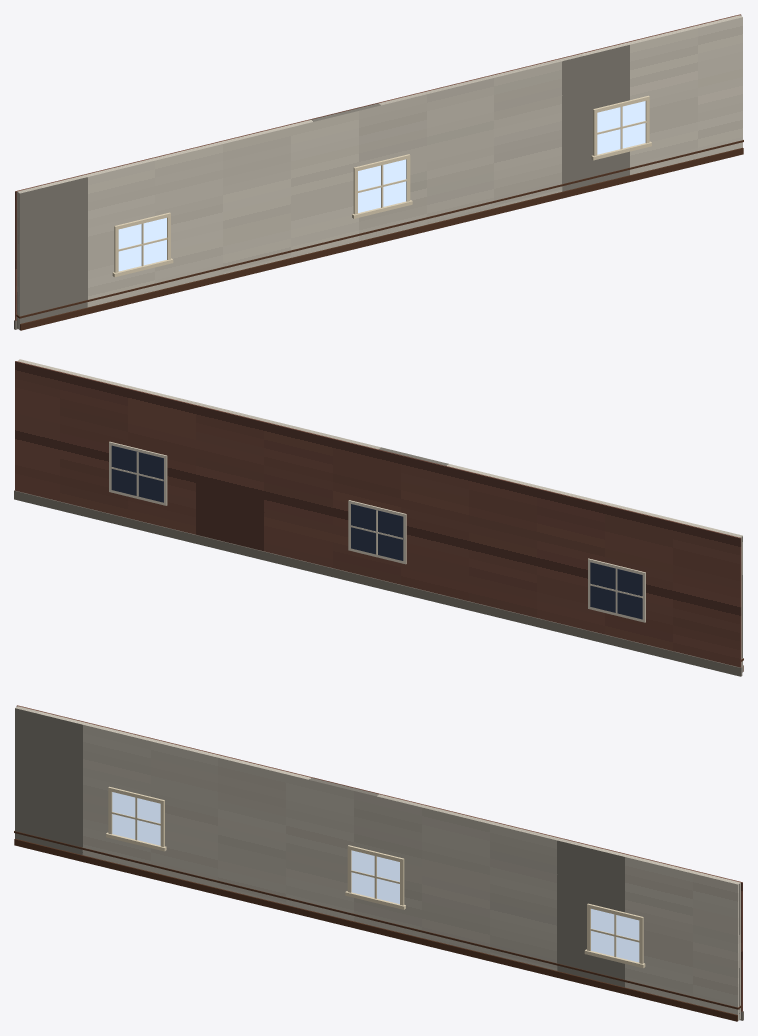
Rendered from middle_rear.glb.
The picture shows the model from 3 angles, top to bottom: view 1: azimuth 30°, elevation 25°; view 2: azimuth 150°, elevation 25°; view 3: azimuth 330°, elevation 25°; orthographic projection.
Parts seen in each view (by area): view 1: Box1, Box2, Box38, Box39, Box35, Box13, Box24, Box3; view 2: Box3, Box4, Box1, Box6, Box28, Box17, Box16, Box27, Box5; view 3: Box1, Box2, Box38, Box39, Box13, Box35, Box24, Box3.
Boxes of the visible parts, x1,y1,x2,y2 form: Box1: [17, 15, 742, 329]; Box2: [20, 147, 743, 330]; Box38: [17, 143, 742, 329]; Box39: [16, 140, 743, 318]; Box35: [597, 101, 645, 154]; Box13: [118, 218, 166, 271]; Box24: [358, 159, 406, 212]; Box3: [15, 14, 741, 320]; Box3: [15, 361, 741, 667]; Box4: [14, 490, 742, 676]; Box1: [17, 359, 742, 672]; Box6: [590, 562, 642, 619]; Box28: [111, 445, 163, 502]; Box17: [351, 504, 403, 560]; Box16: [348, 500, 406, 564]; Box27: [109, 441, 167, 505]; Box5: [588, 558, 645, 622]; Box1: [15, 706, 740, 1020]; Box2: [14, 838, 737, 1021]; Box38: [15, 833, 740, 1019]; Box39: [14, 831, 741, 1009]; Box13: [112, 792, 160, 845]; Box35: [591, 909, 639, 962]; Box24: [351, 850, 399, 903]; Box3: [16, 705, 742, 1011].
Bounding box in the file's own units: 22.27 × 4.04 × 0.338.
Materials: 8 (2 with a texture image).
